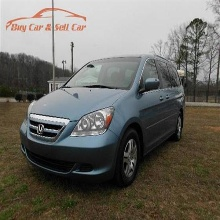no damage: (18, 55, 184, 185)
